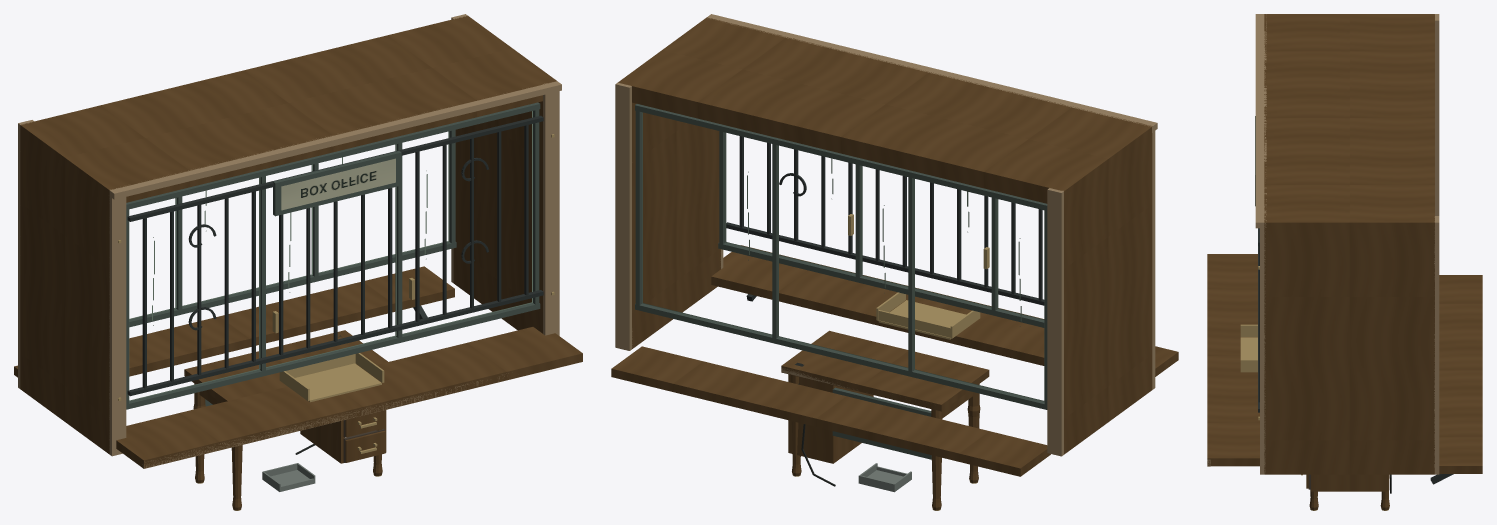
The model's file is box-office.glb.
The picture shows the model from 3 angles, left to right: view 1: azimuth 30°, elevation 25°; view 2: azimuth 150°, elevation 25°; view 3: azimuth 270°, elevation 25°; orthographic projection. The views are drawn at different scales.
Visible parts, largest first — view 1: box_office_clerking_hatch, box_office_clerks_desk, box_office_returns_tray; view 2: box_office_clerking_hatch, box_office_clerks_desk, box_office_returns_tray; view 3: box_office_clerking_hatch, box_office_clerks_desk.
Boxes of the visible parts, x1=… form: box_office_clerking_hatch: x1=14, y1=14, x2=582, y2=468; box_office_clerks_desk: x1=184, y1=330, x2=387, y2=510; box_office_returns_tray: x1=262, y1=463, x2=315, y2=491; box_office_clerking_hatch: x1=611, y1=14, x2=1178, y2=476; box_office_clerks_desk: x1=781, y1=330, x2=989, y2=510; box_office_returns_tray: x1=858, y1=463, x2=911, y2=492; box_office_clerking_hatch: x1=1207, y1=14, x2=1482, y2=484; box_office_clerks_desk: x1=1301, y1=474, x2=1391, y2=510.
Bounding box in the file's own units: 3.12 × 2.52 × 1.74.
Materials: 11 (4 with a texture image).
